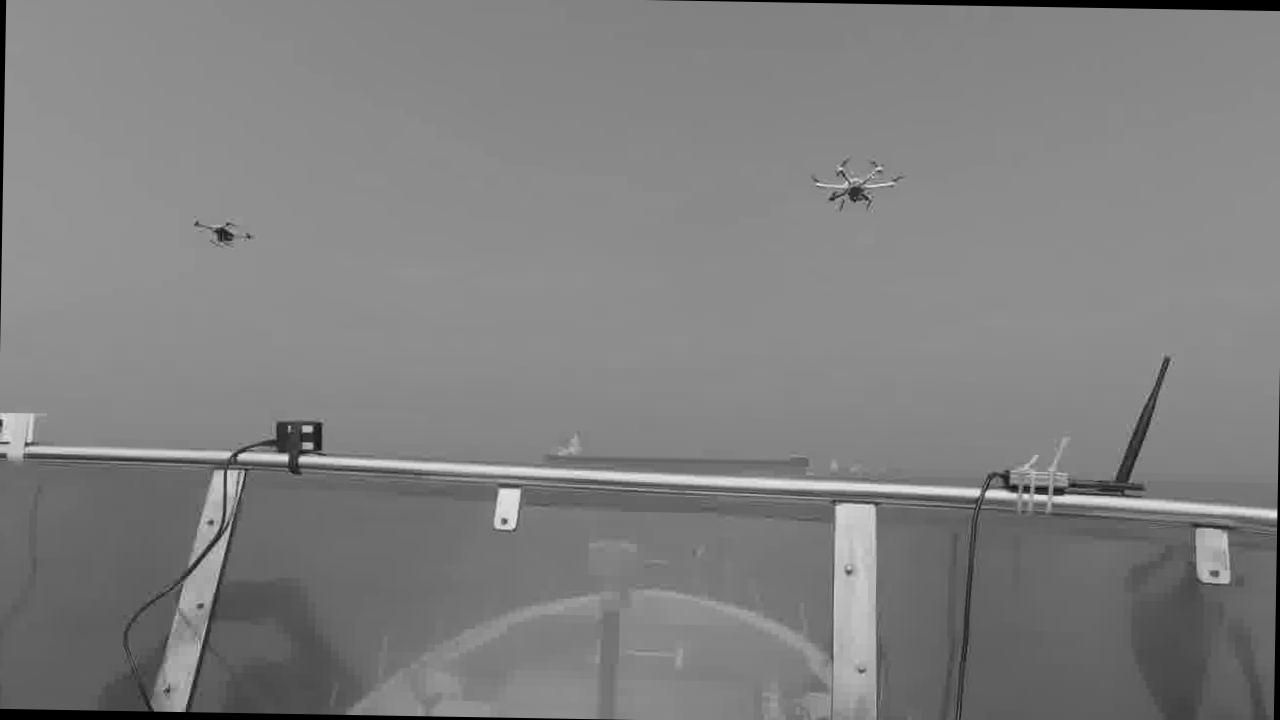drone: (808, 150, 902, 212), (188, 211, 256, 248)
